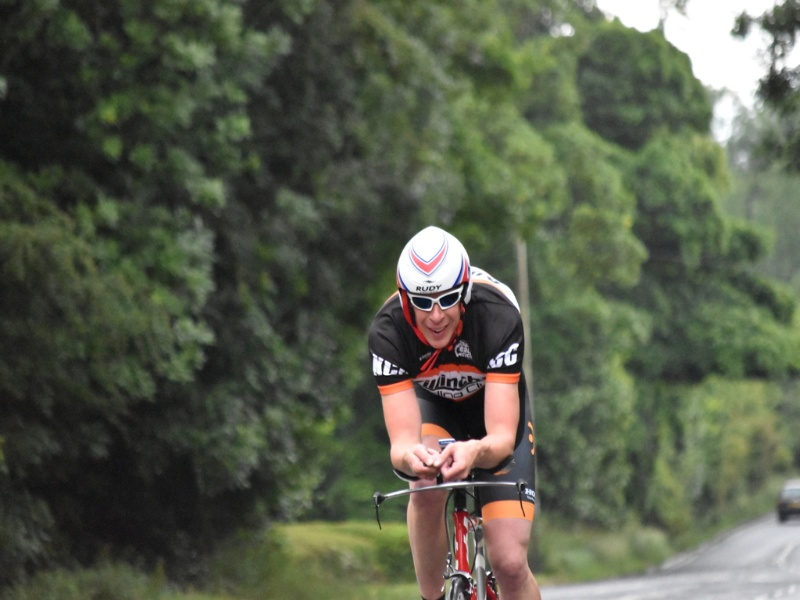Baret: (395, 224, 473, 293)
